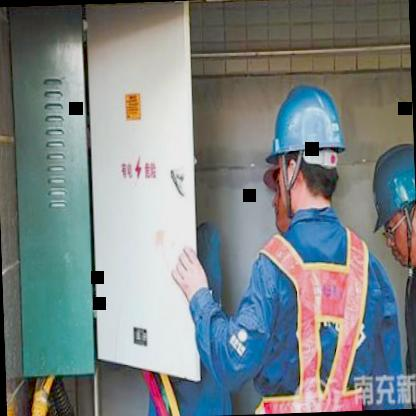helmet: (262, 69, 354, 224), (367, 130, 416, 270)
